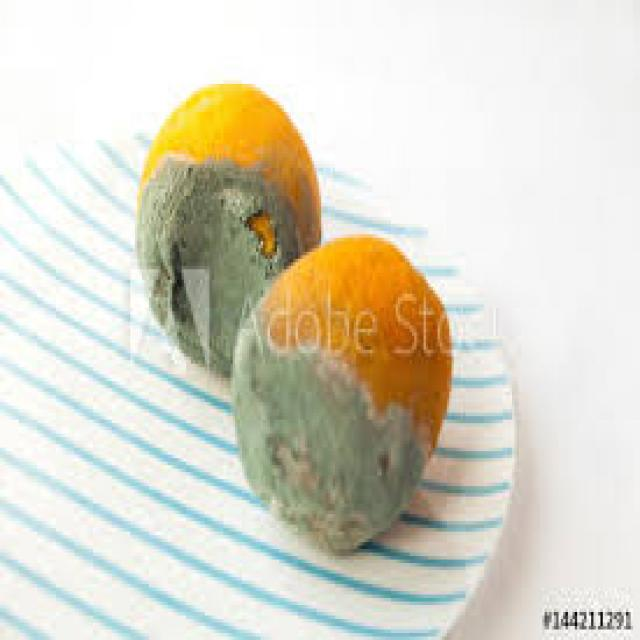organic waste: (228, 231, 449, 552), (135, 77, 319, 371)
